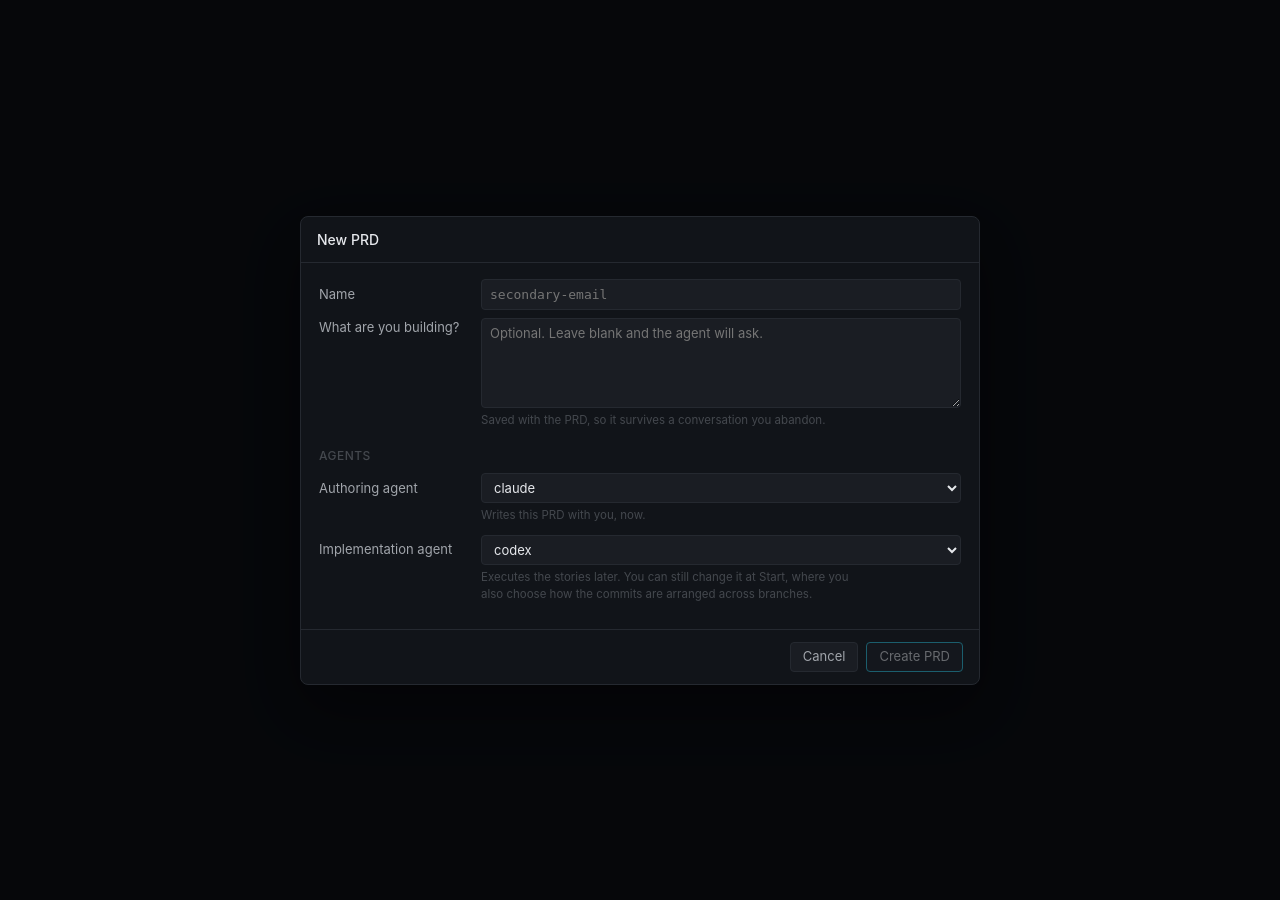
it: the New PRD dialog › refuses a name that is not a plain identifier
The image size is (1280, 900).
Type "has spaces" into the field with placeholder "secondary-email".
click(721, 294); type("has spaces")  # box [481,278,961,310]
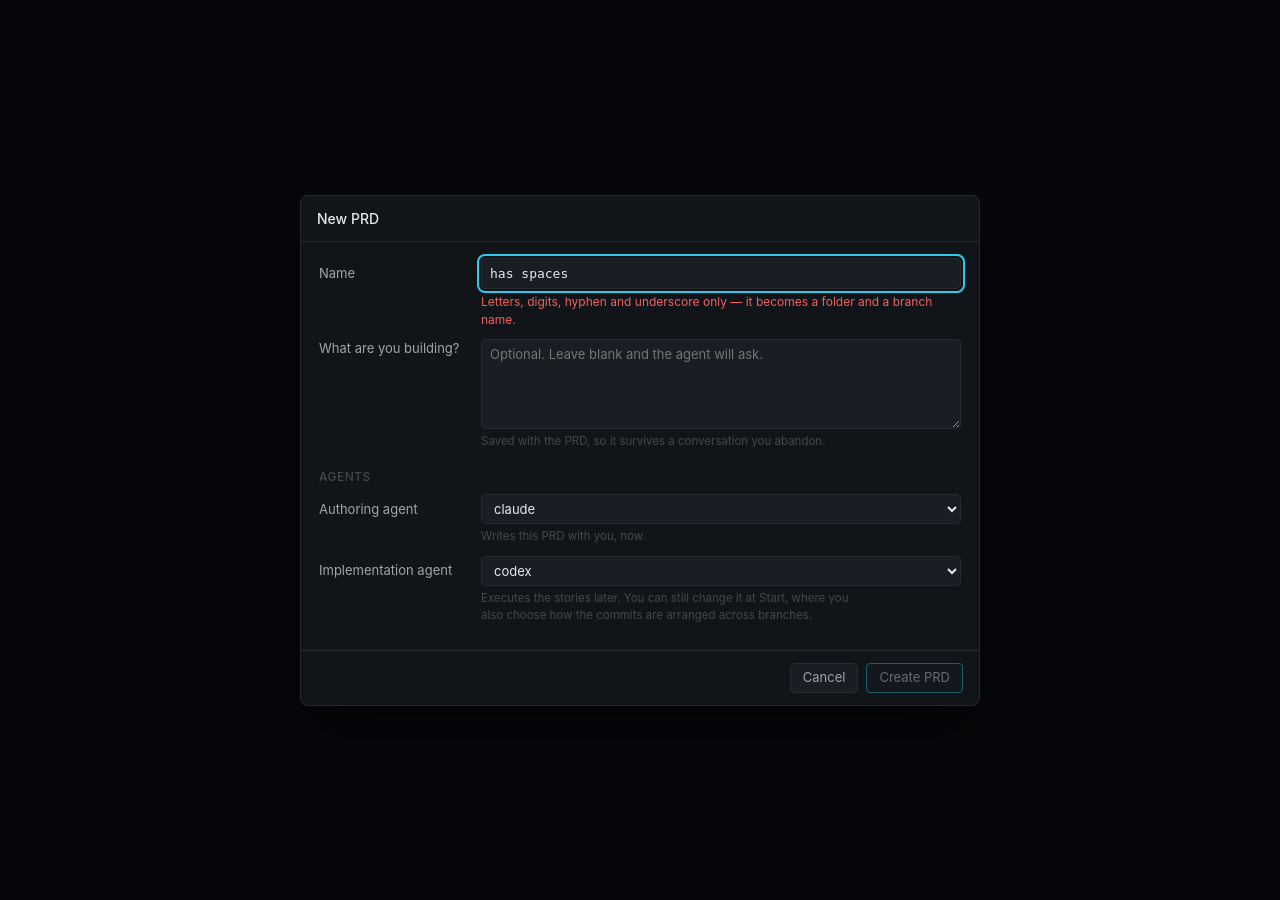
Expected: the button "Create PRD" is disabled, [866,663,963,692]
Expected: the text "Letters, digits" is shown, [481,294,932,327]
